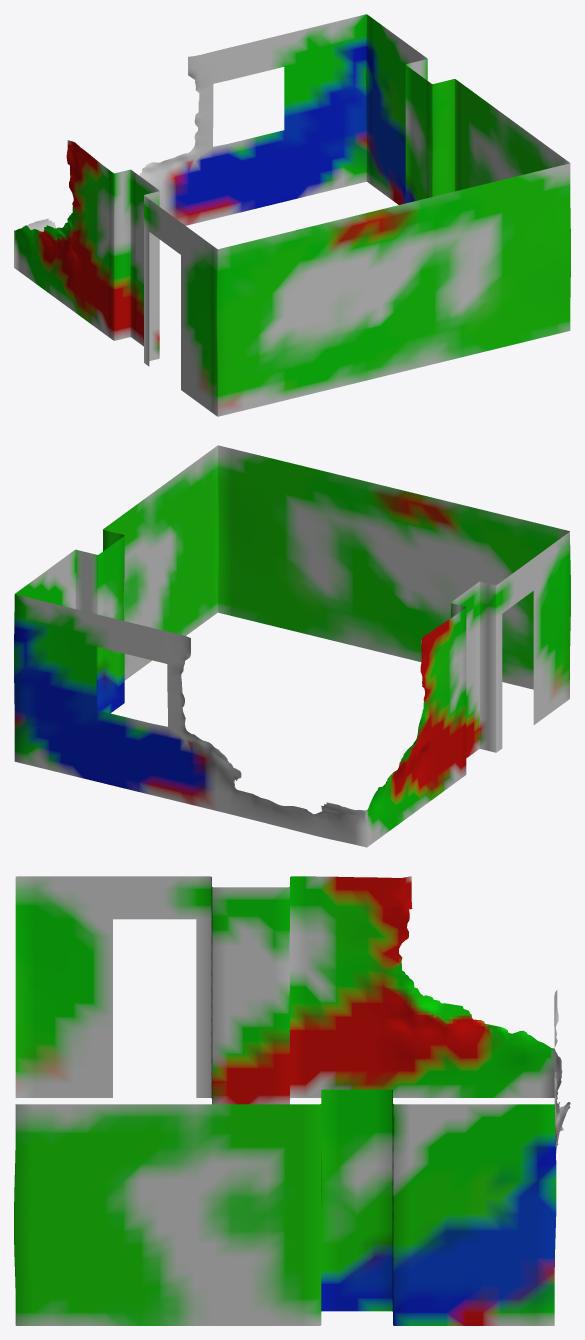
The model's file is BrokenWall.fbx.
3 views of the same model, one above another, from view 1: azimuth 30°, elevation 25°; view 2: azimuth 150°, elevation 25°; view 3: azimuth 270°, elevation 25° (orthographic). The views are drawn at different scales.
Visible parts, largest first — view 1: ApartmentForUE4_Wall_003_58; view 2: ApartmentForUE4_Wall_003_58; view 3: ApartmentForUE4_Wall_003_58.
Boxes of the visible parts, box(x1,y1,x2,y2) form: ApartmentForUE4_Wall_003_58: box(14, 14, 570, 416); ApartmentForUE4_Wall_003_58: box(14, 445, 570, 847); ApartmentForUE4_Wall_003_58: box(14, 876, 570, 1325).
Bounding box in the file's own units: 605 × 620 × 274.
